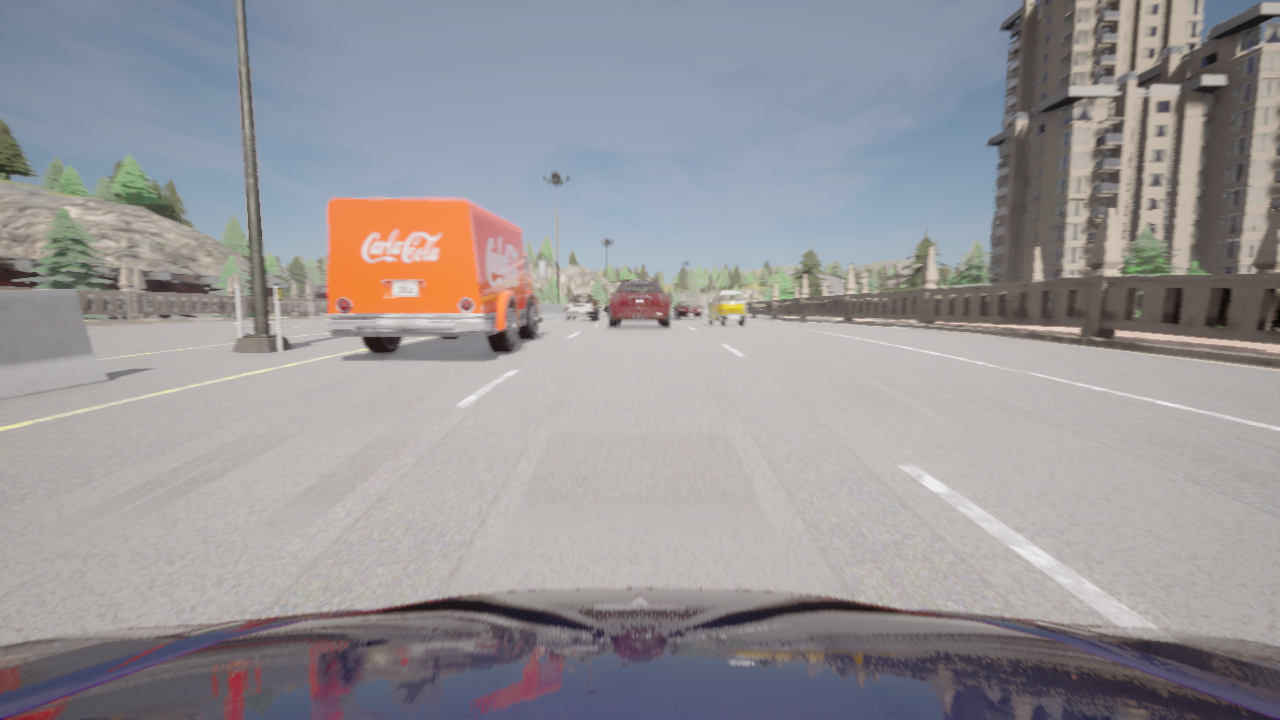cyclist: (0, 588, 1279, 719), (326, 198, 546, 352), (609, 279, 670, 327), (708, 291, 746, 325), (566, 294, 598, 320), (674, 302, 703, 318), (604, 304, 609, 315)
